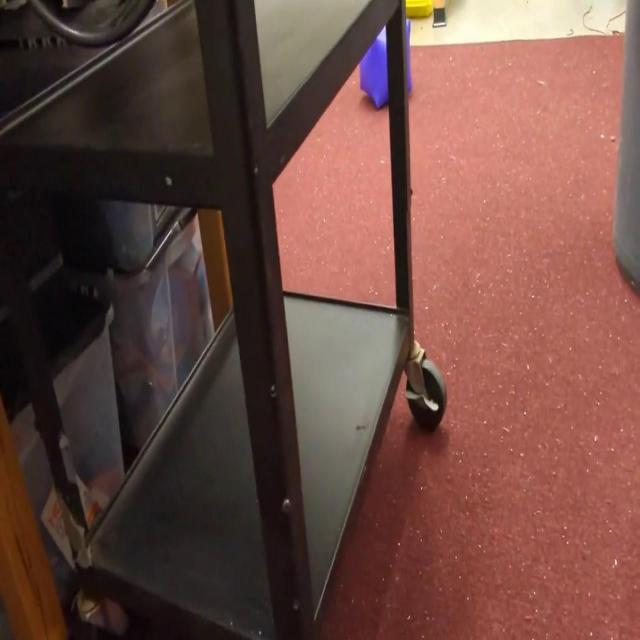frc_cube: (359, 14, 413, 112)
